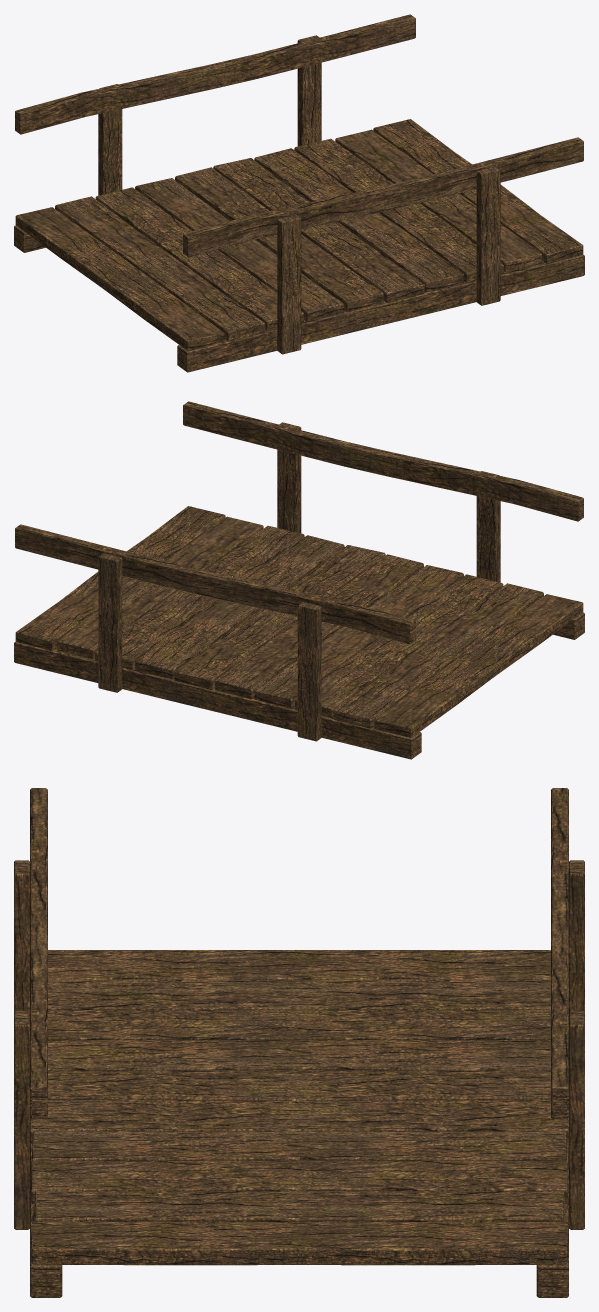
The model's file is Laufsteg.gltf.
The picture shows the model from 3 angles, top to bottom: view 1: azimuth 30°, elevation 25°; view 2: azimuth 150°, elevation 25°; view 3: azimuth 270°, elevation 25°; orthographic projection. The views are drawn at different scales.
Visible parts, largest first — view 1: Laufsteg; view 2: Laufsteg; view 3: Laufsteg.
Boxes of the visible parts, box(x1,y1,x2,y2) form: Laufsteg: box(14, 14, 584, 372); Laufsteg: box(14, 401, 584, 759); Laufsteg: box(14, 788, 584, 1297).
Size of the model in its own units: 4 by 1.32 by 3.2.
1 material, 1 textured.
